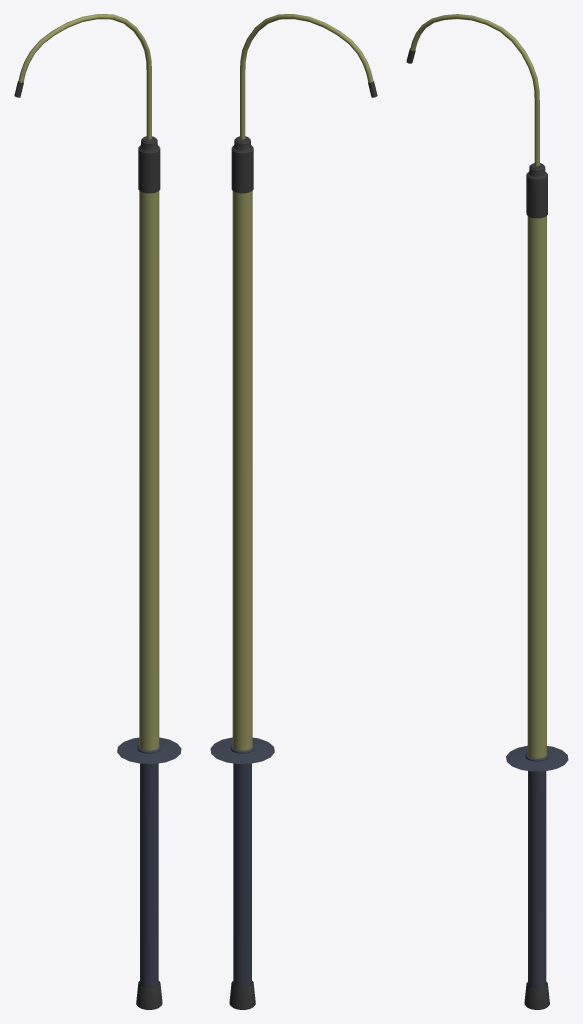
Rendered from Pertiga_Salvamiento (1).fbx.
3 renders of one model, left to right at view 1: azimuth 30°, elevation 25°; view 2: azimuth 150°, elevation 25°; view 3: azimuth 330°, elevation 25°, orthographic. The views are drawn at different scales.
Parts seen in each view (by area): view 1: Pertiga_Salvamiento; view 2: Pertiga_Salvamiento; view 3: Pertiga_Salvamiento.
Part boxes in pixels (x1,y1,x2,y2): Pertiga_Salvamiento: (14,14,181,1009); Pertiga_Salvamiento: (210,14,377,1009); Pertiga_Salvamiento: (406,14,568,1009).
Size of the model in its own units: 22.54 by 133 by 7.8.
